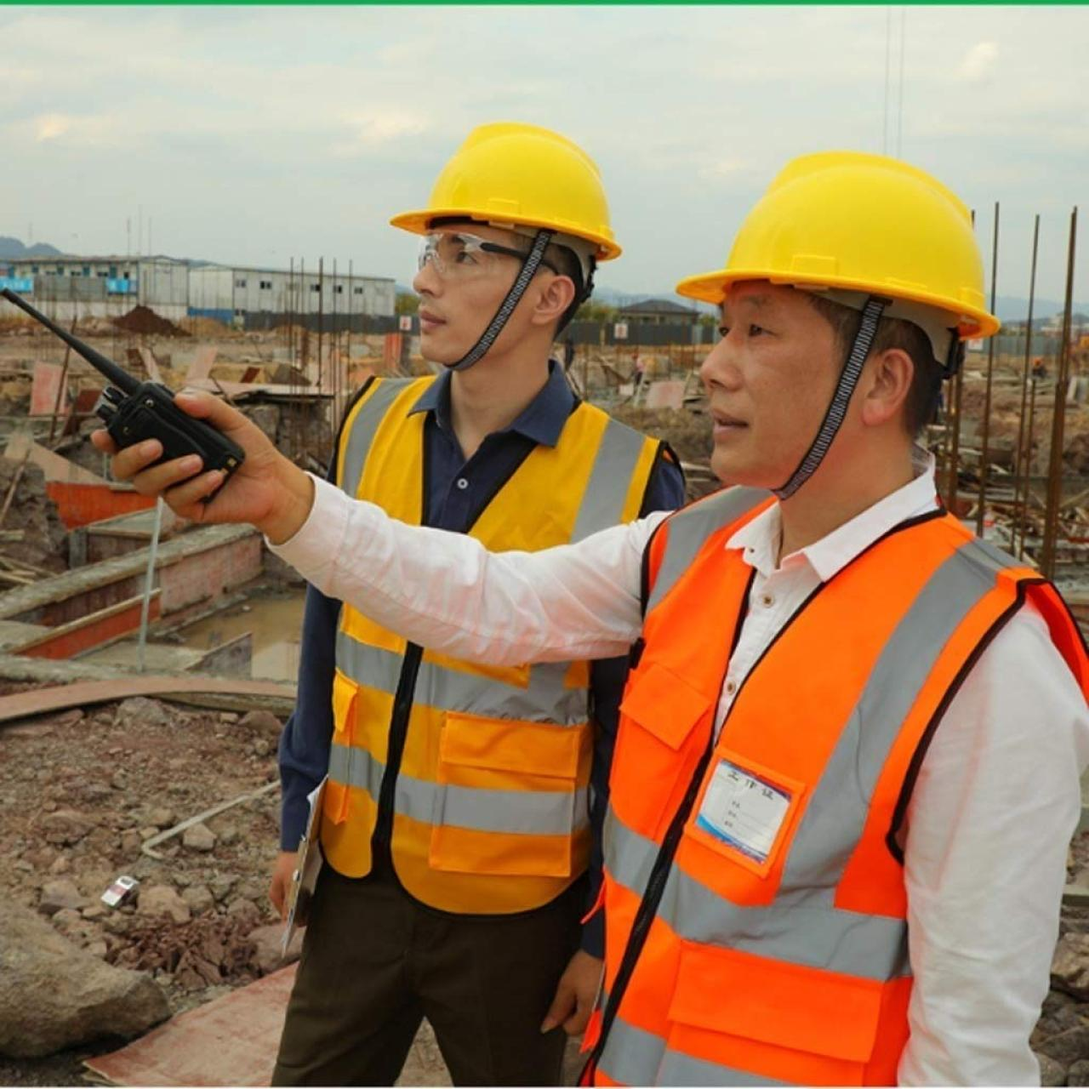Person: (0, 54, 1089, 1089), (223, 88, 695, 1089)
Safety_Vest: (579, 474, 1069, 1089), (309, 364, 683, 941)
